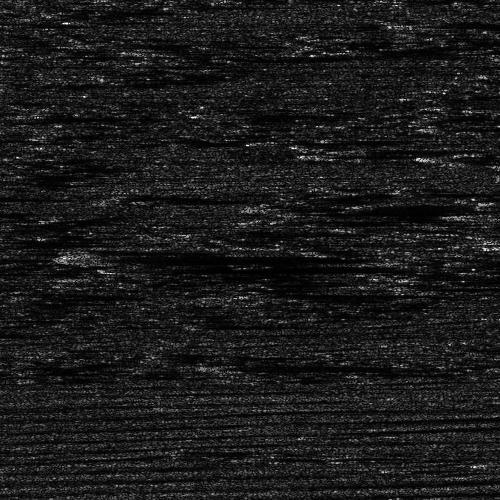object: (186, 289, 311, 300), (55, 252, 128, 265), (369, 17, 442, 26), (71, 192, 144, 201), (0, 104, 25, 129), (179, 364, 242, 369), (243, 139, 296, 144), (292, 151, 345, 156), (450, 211, 481, 218), (103, 265, 134, 270)
shadow: (92, 252, 310, 265), (4, 104, 74, 129), (249, 289, 406, 300), (211, 364, 496, 369), (119, 265, 339, 270), (107, 192, 217, 201), (406, 17, 500, 26), (0, 192, 67, 201), (270, 139, 386, 144), (319, 151, 399, 156), (465, 211, 500, 218), (437, 155, 500, 158)
